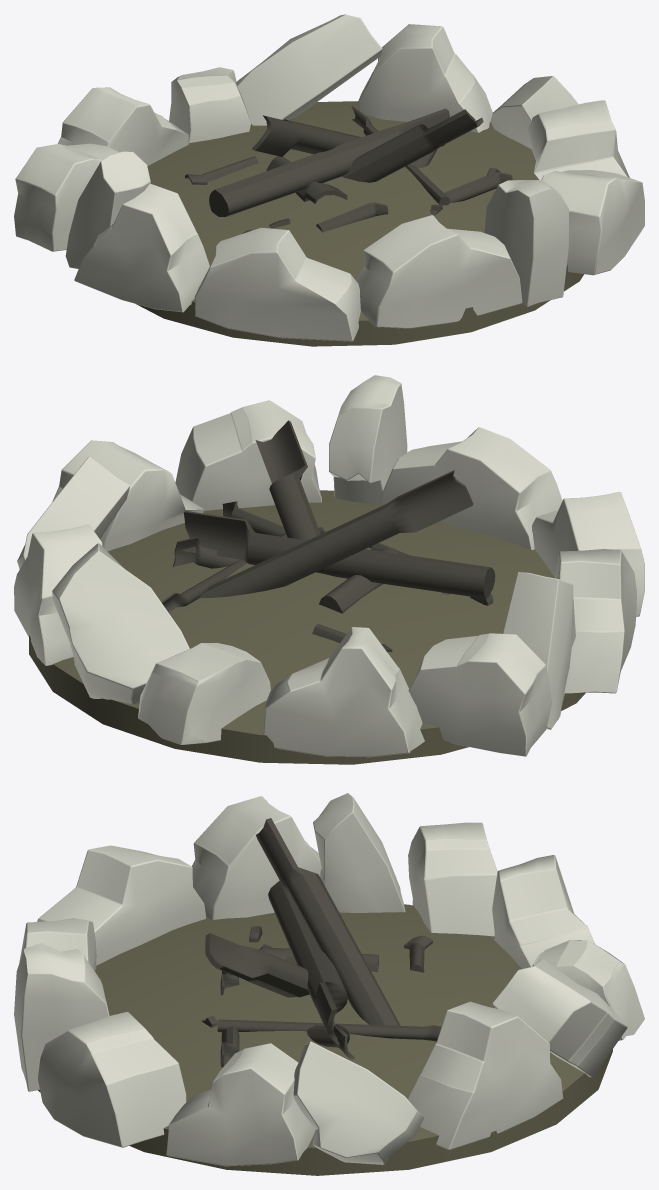
Rendered from FirePitFBX.fbx.
The picture shows the model from 3 angles, top to bottom: view 1: azimuth 30°, elevation 25°; view 2: azimuth 150°, elevation 25°; view 3: azimuth 270°, elevation 25°; orthographic projection. The views are drawn at different scales.
Parts seen in each view (by area): view 1: pCylinder5, pCube6, pCube8, pCube14, pCube12, pCube21, pCube9, pCube10, pCube16, pCube18, pCube24, pCube11 (+10 smaller); view 2: pCylinder5, pCube18, pCube16, pCube21, pCube6, pCube20, pCube10, pCube22, pCube14, pCube24, pCube9, pCube11 (+9 smaller); view 3: pCylinder5, pCube12, pCube10, pCube11, pCube8, pCube13, pCube14, pCube16, pCube21, pCube9, pCube17, pCube18 (+10 smaller).
Boxes of the visible parts, left/top/right/bottom form: pCylinder5: left=136, top=101, right=583, bottom=346; pCube6: left=355, top=215, right=522, bottom=328; pCube8: left=194, top=227, right=360, bottom=341; pCube14: left=74, top=183, right=209, bottom=312; pCube12: left=358, top=24, right=492, bottom=132; pCube21: left=236, top=14, right=382, bottom=125; pCube9: left=484, top=180, right=568, bottom=306; pCube10: left=541, top=170, right=644, bottom=275; pCube16: left=14, top=143, right=119, bottom=251; pCube18: left=58, top=87, right=188, bottom=165; pCube24: left=209, top=108, right=449, bottom=216; pCube11: left=528, top=100, right=629, bottom=179; pCylinder5: left=29, top=490, right=585, bottom=764; pCube18: left=263, top=627, right=424, bottom=757; pCube16: left=408, top=633, right=551, bottom=756; pCube21: left=52, top=543, right=189, bottom=703; pCube6: left=380, top=427, right=562, bottom=549; pCube20: left=138, top=642, right=270, bottom=744; pCube10: left=175, top=400, right=321, bottom=510; pCube22: left=199, top=470, right=473, bottom=597; pCube14: left=555, top=549, right=636, bottom=693; pCube24: left=181, top=511, right=495, bottom=598; pCube9: left=329, top=375, right=407, bottom=504; pCube11: left=52, top=440, right=203, bottom=551; pCylinder5: left=38, top=904, right=612, bottom=1175; pCube12: left=408, top=1001, right=563, bottom=1150; pCube10: left=37, top=1012, right=186, bottom=1147; pCube11: left=166, top=1043, right=315, bottom=1166; pCube8: left=37, top=845, right=206, bottom=965; pCube13: left=293, top=1041, right=424, bottom=1164; pCube14: left=191, top=796, right=321, bottom=919; pCube16: left=408, top=822, right=497, bottom=936; pCube21: left=492, top=959, right=627, bottom=1077; pCube9: left=14, top=943, right=109, bottom=1091; pCube17: left=313, top=793, right=405, bottom=912; pCube18: left=492, top=855, right=595, bottom=968.
Size of the model in its own units: 1.71 by 0.5012 by 1.59.
